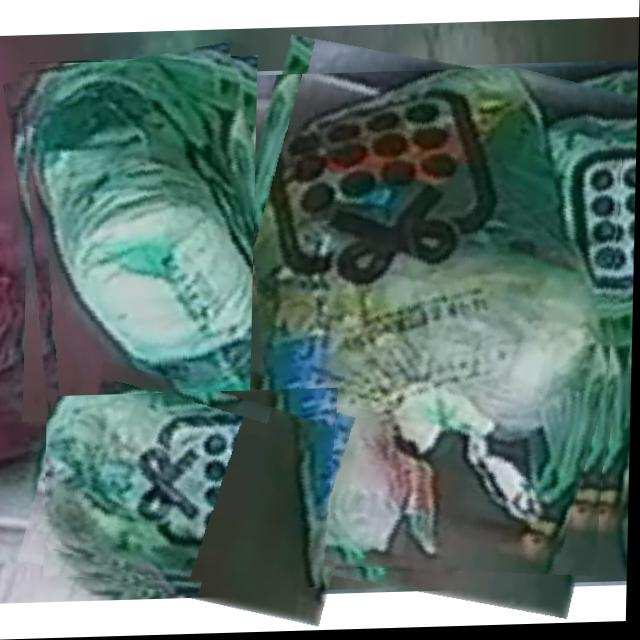general_trashbag: (239, 71, 613, 573), (23, 61, 253, 414), (48, 395, 327, 589)
